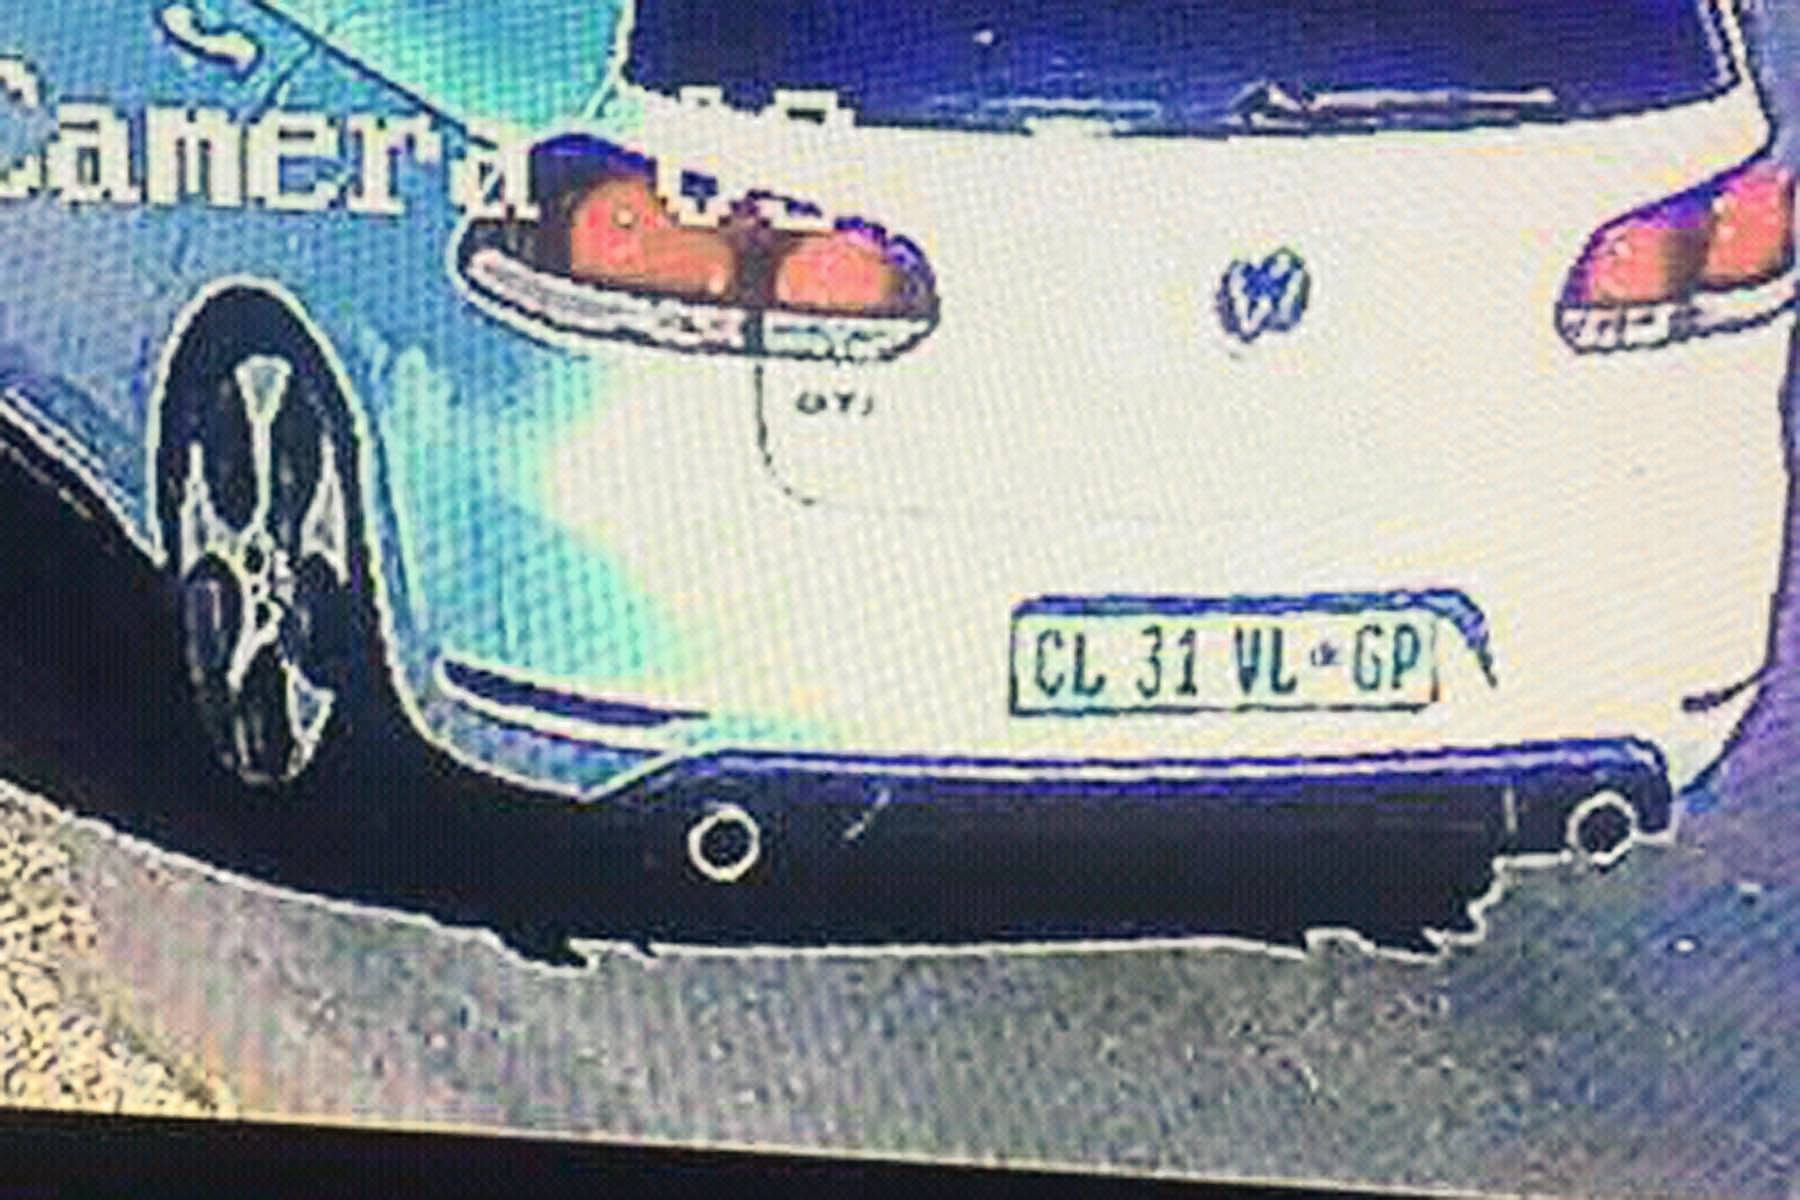plate: (1010, 570, 1425, 745)
